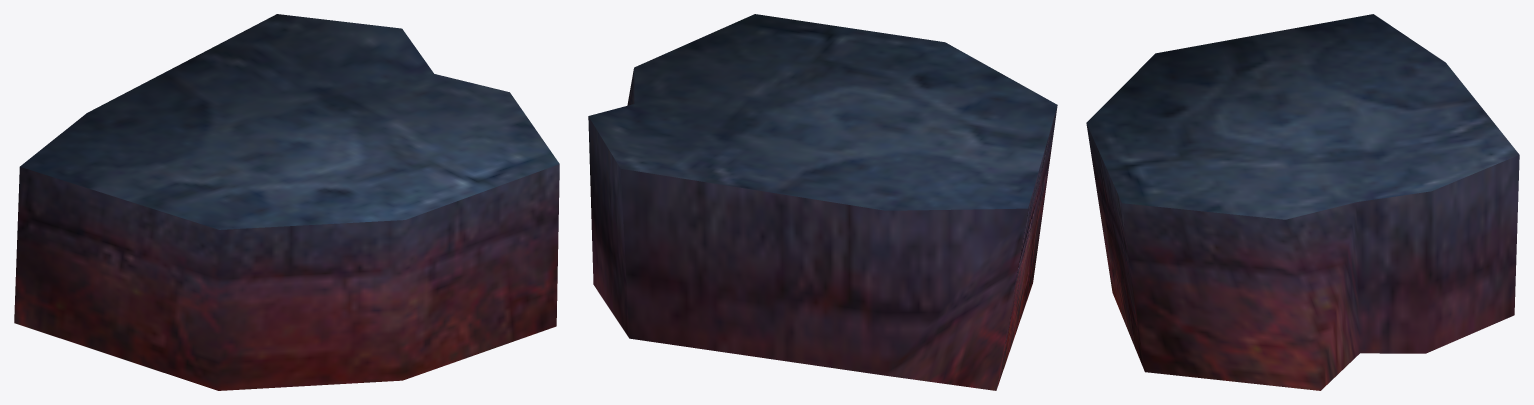
File: Vo_N_Fissure05.FBX
3 views of the same model, side by side, from view 1: azimuth 30°, elevation 25°; view 2: azimuth 150°, elevation 25°; view 3: azimuth 270°, elevation 25° (orthographic). The views are drawn at different scales.
Visible parts, largest first — view 1: Vo_N_Fissure05; view 2: Vo_N_Fissure05; view 3: Vo_N_Fissure05.
Boxes of the visible parts, bbox=[...] form: Vo_N_Fissure05: bbox=[14, 14, 559, 390]; Vo_N_Fissure05: bbox=[588, 14, 1057, 390]; Vo_N_Fissure05: bbox=[1086, 14, 1519, 390].
Bounding box in the file's own units: 160 × 62.94 × 138.
